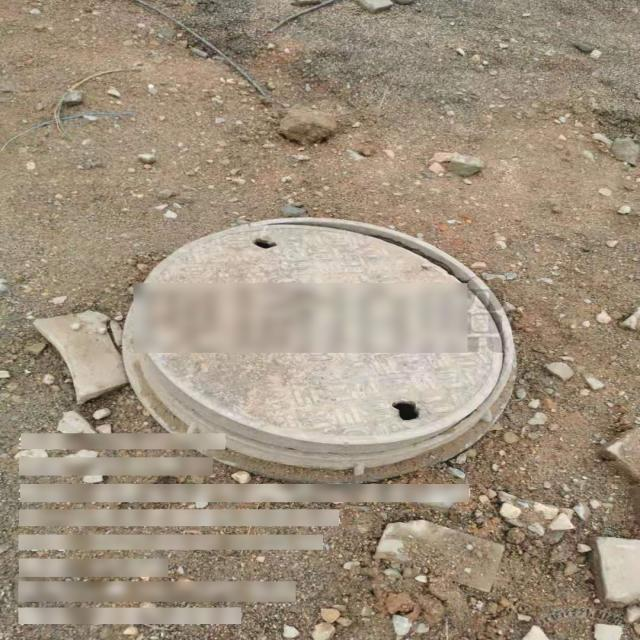Lose: (122, 217, 516, 482)
